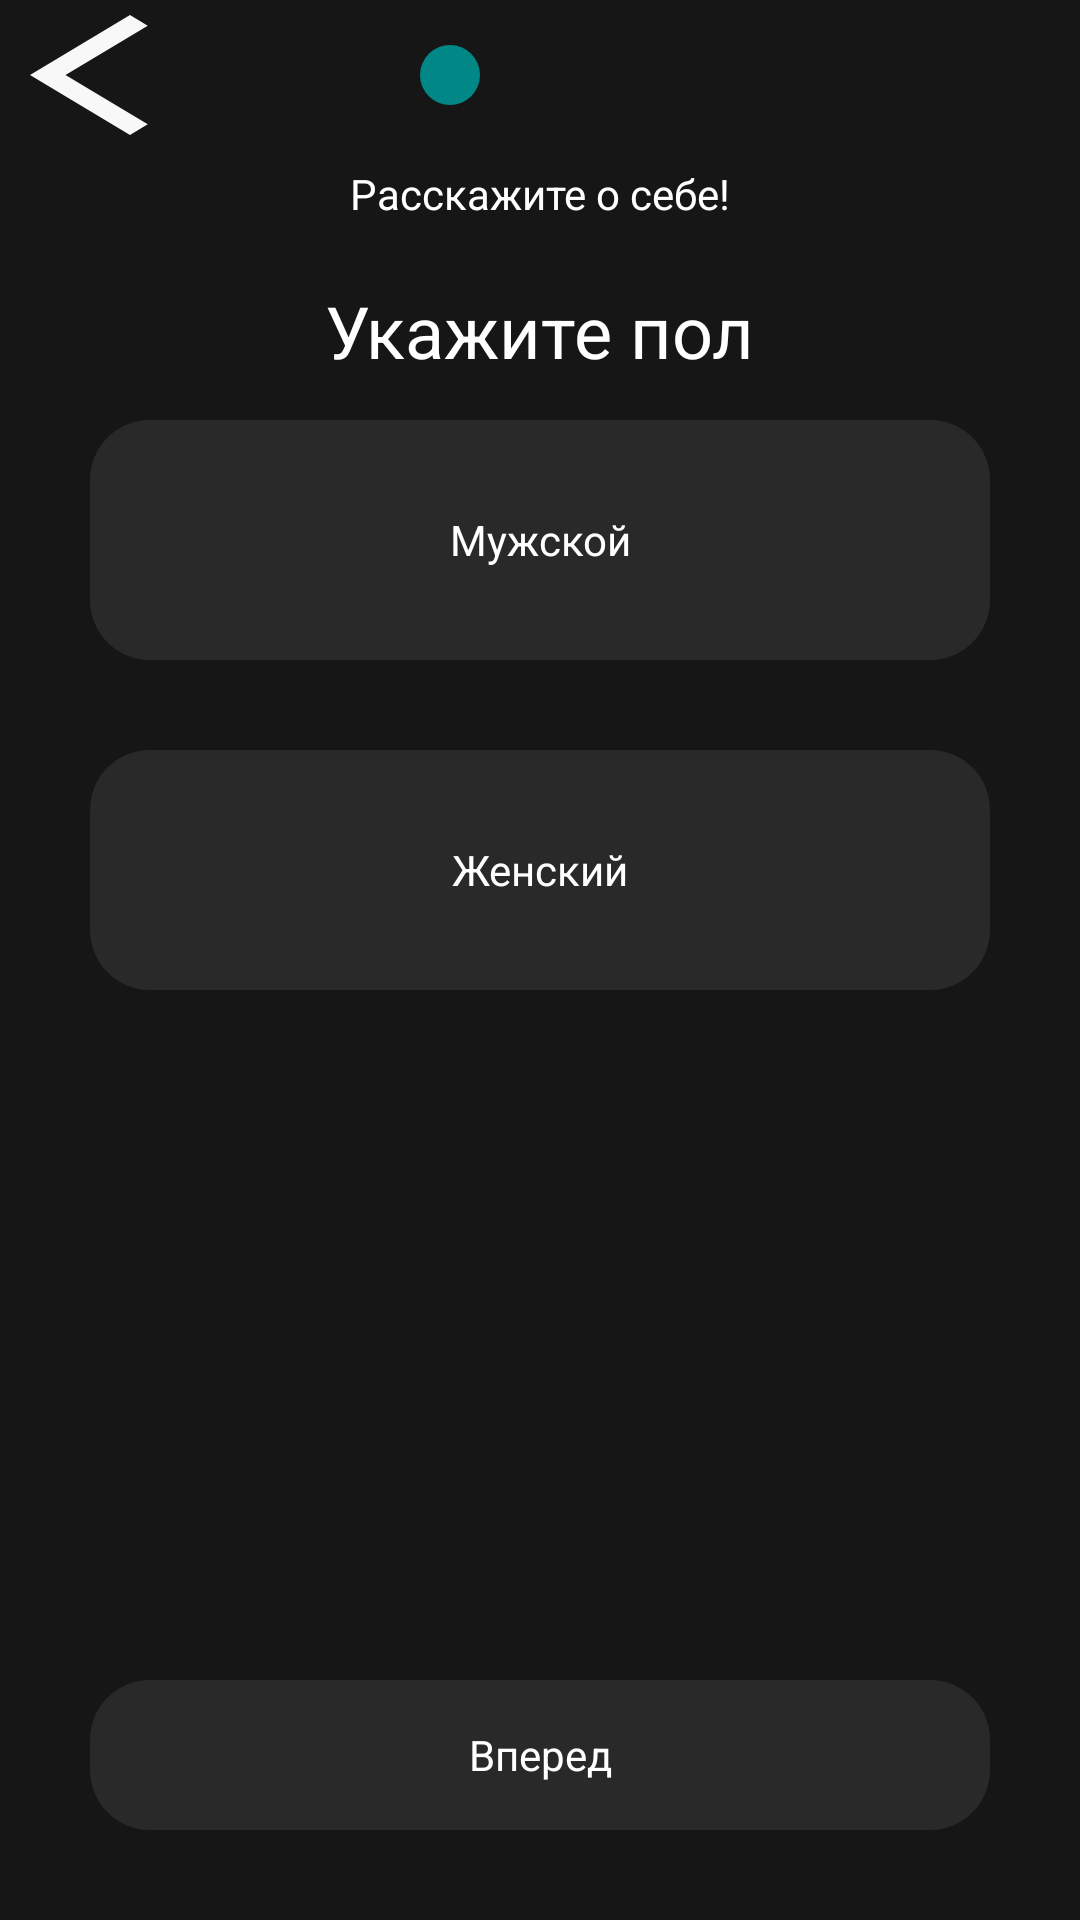

Named icons in this screenshot (1080×1920) and their centers, (x,y):
back: (89,75)
